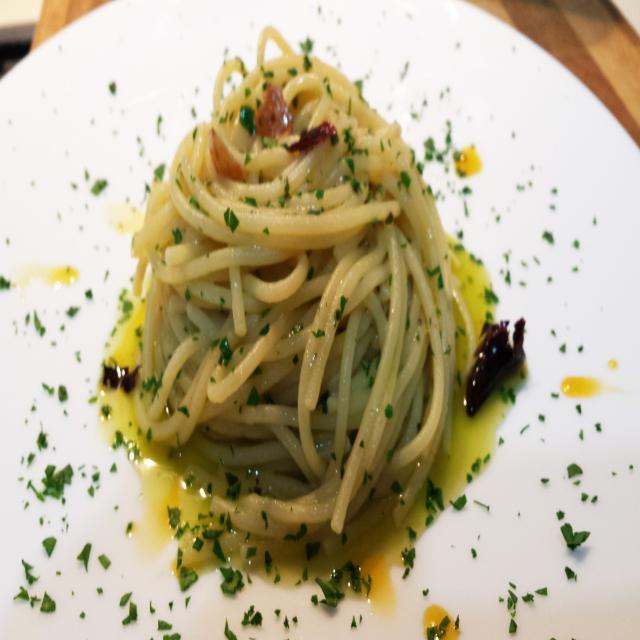Oil pasta: (102, 54, 558, 577)
